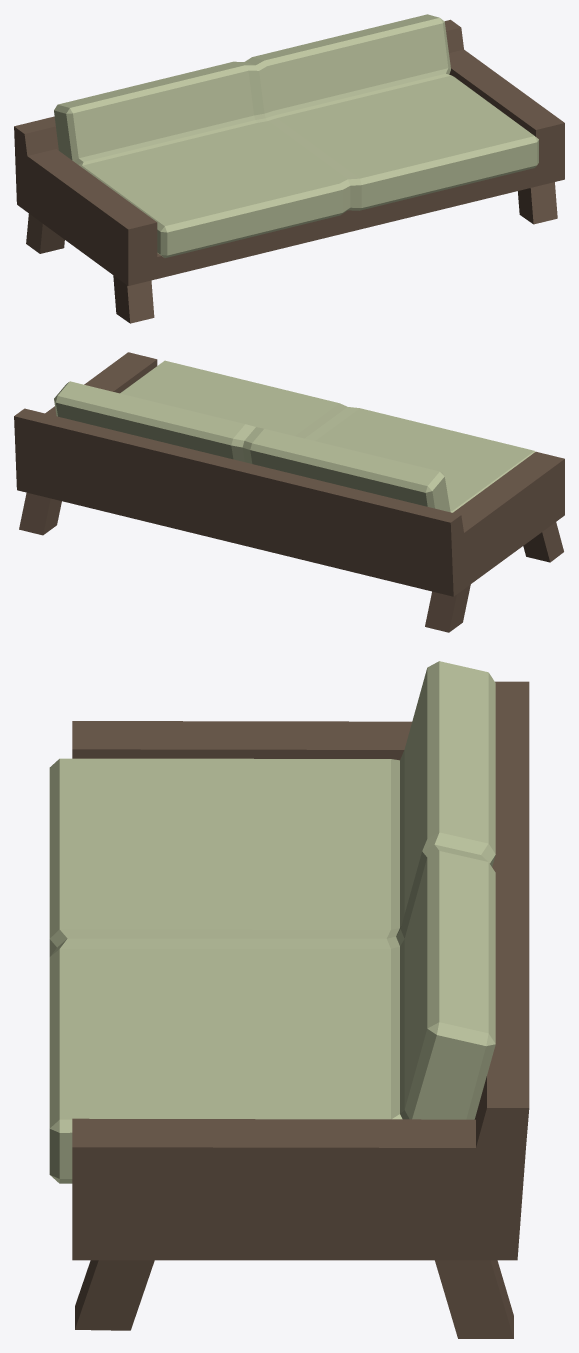
The model's file is Sofa_3.fbx.
The picture shows the model from 3 angles, top to bottom: view 1: azimuth 30°, elevation 25°; view 2: azimuth 150°, elevation 25°; view 3: azimuth 270°, elevation 25°; orthographic projection. The views are drawn at different scales.
Parts seen in each view (by area): view 1: Sofa_3; view 2: Sofa_3; view 3: Sofa_3.
Boxes of the visible parts, box(x1,y1,x2,y2) form: Sofa_3: box(14, 14, 564, 323); Sofa_3: box(14, 352, 564, 632); Sofa_3: box(49, 661, 529, 1338).
Bounding box in the file's own units: 288 × 137 × 89.74.
